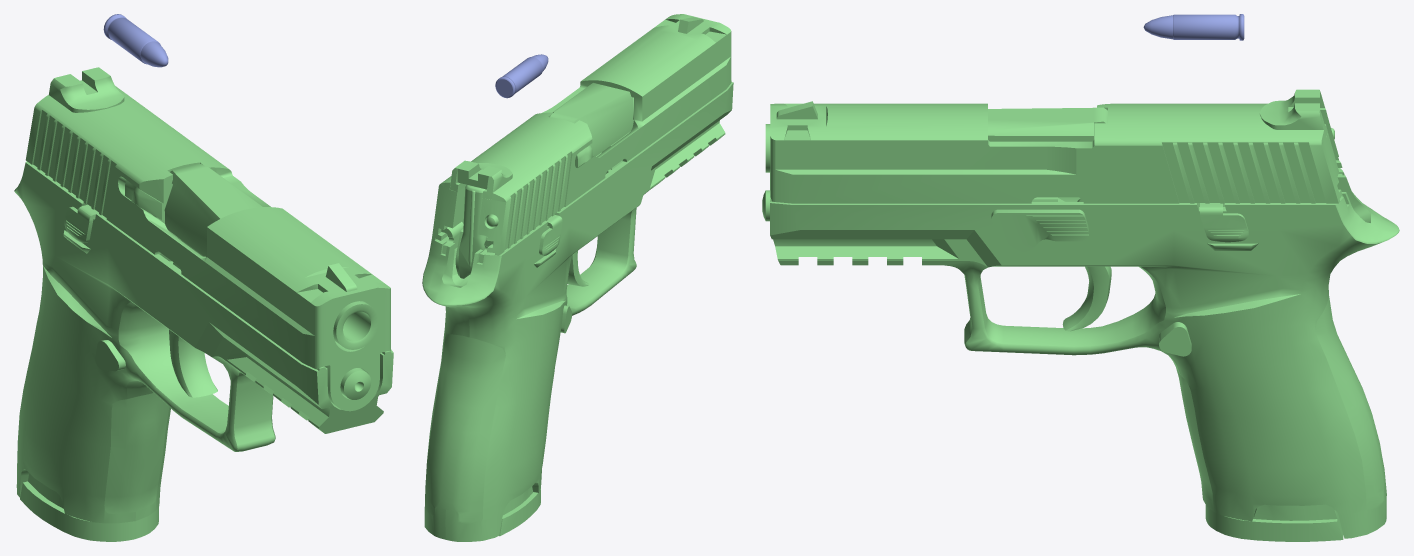
3 views of the same model, side by side, from view 1: azimuth 30°, elevation 25°; view 2: azimuth 150°, elevation 25°; view 3: azimuth 270°, elevation 25° (orthographic). The views are drawn at different scales.
Visible parts, largest first — view 1: WPN_P350, WPN_P350_slide, WPN_P350_barrel, WPN_P350_magazine, WPN_P350_trigger, cal_45; view 2: WPN_P350, WPN_P350_slide, WPN_P350_barrel, WPN_P350_hammer, cal_45, WPN_P350_magazine, WPN_P350_trigger; view 3: WPN_P350, WPN_P350_slide, WPN_P350_barrel, WPN_P350_magazine, cal_45, WPN_P350_trigger.
Boxes of the visible parts, x1,y1,x2,y2 form: WPN_P350: (14, 161, 393, 523); WPN_P350_slide: (25, 67, 390, 411); WPN_P350_barrel: (164, 163, 378, 349); WPN_P350_magazine: (20, 237, 181, 541); WPN_P350_trigger: (169, 329, 217, 397); cal_45: (103, 14, 168, 67); WPN_P350: (422, 81, 733, 541); WPN_P350_slide: (432, 14, 731, 255); WPN_P350_barrel: (550, 83, 633, 155); WPN_P350_hammer: (458, 185, 487, 278); cal_45: (495, 54, 548, 98); WPN_P350_magazine: (499, 486, 540, 536); WPN_P350_trigger: (567, 251, 589, 286); WPN_P350: (762, 168, 1399, 538); WPN_P350_slide: (770, 89, 1342, 203); WPN_P350_barrel: (765, 107, 1107, 172); WPN_P350_magazine: (1197, 203, 1343, 541); cal_45: (1143, 14, 1244, 40); WPN_P350_trigger: (1062, 198, 1111, 331).
Size of the model in its own units: 3.94 by 17.8 by 20.42.
